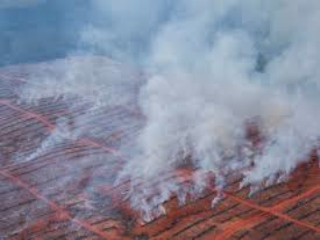smoke: (113, 49, 316, 222)
